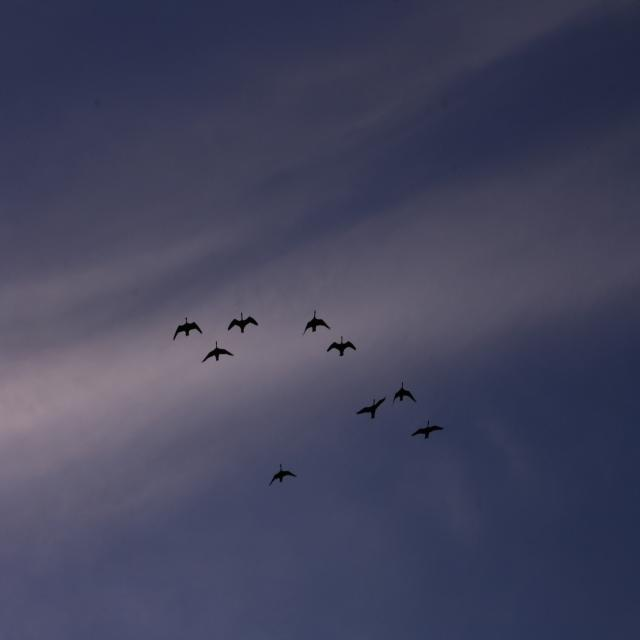bird: (326, 335, 358, 363), (302, 307, 331, 337), (356, 393, 386, 421), (410, 421, 446, 444), (202, 342, 235, 366), (172, 316, 202, 342), (228, 310, 258, 336), (390, 381, 418, 406), (269, 462, 298, 486)
